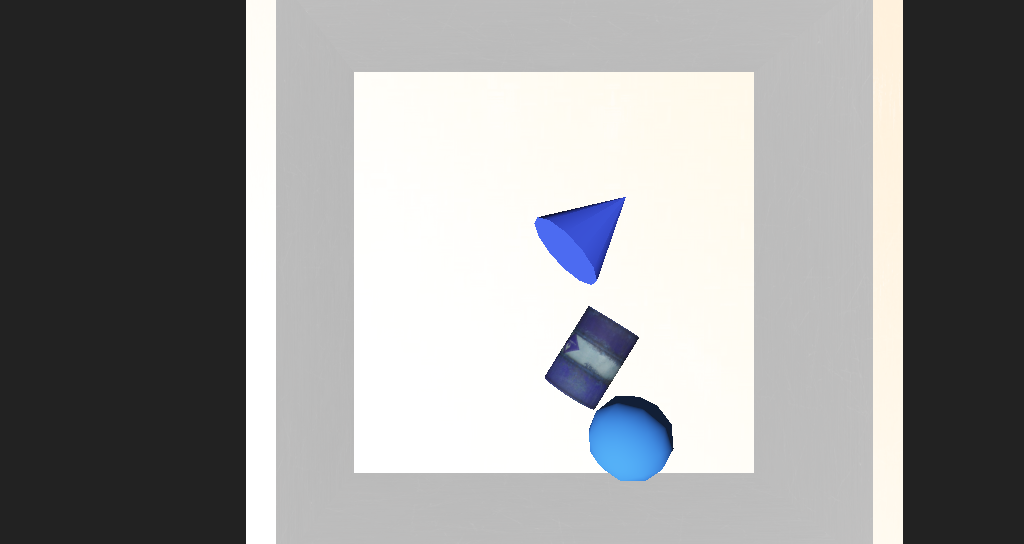cone: (499, 286, 566, 344)
cylinder: (488, 212, 589, 274)
sphere: (525, 336, 593, 379)
